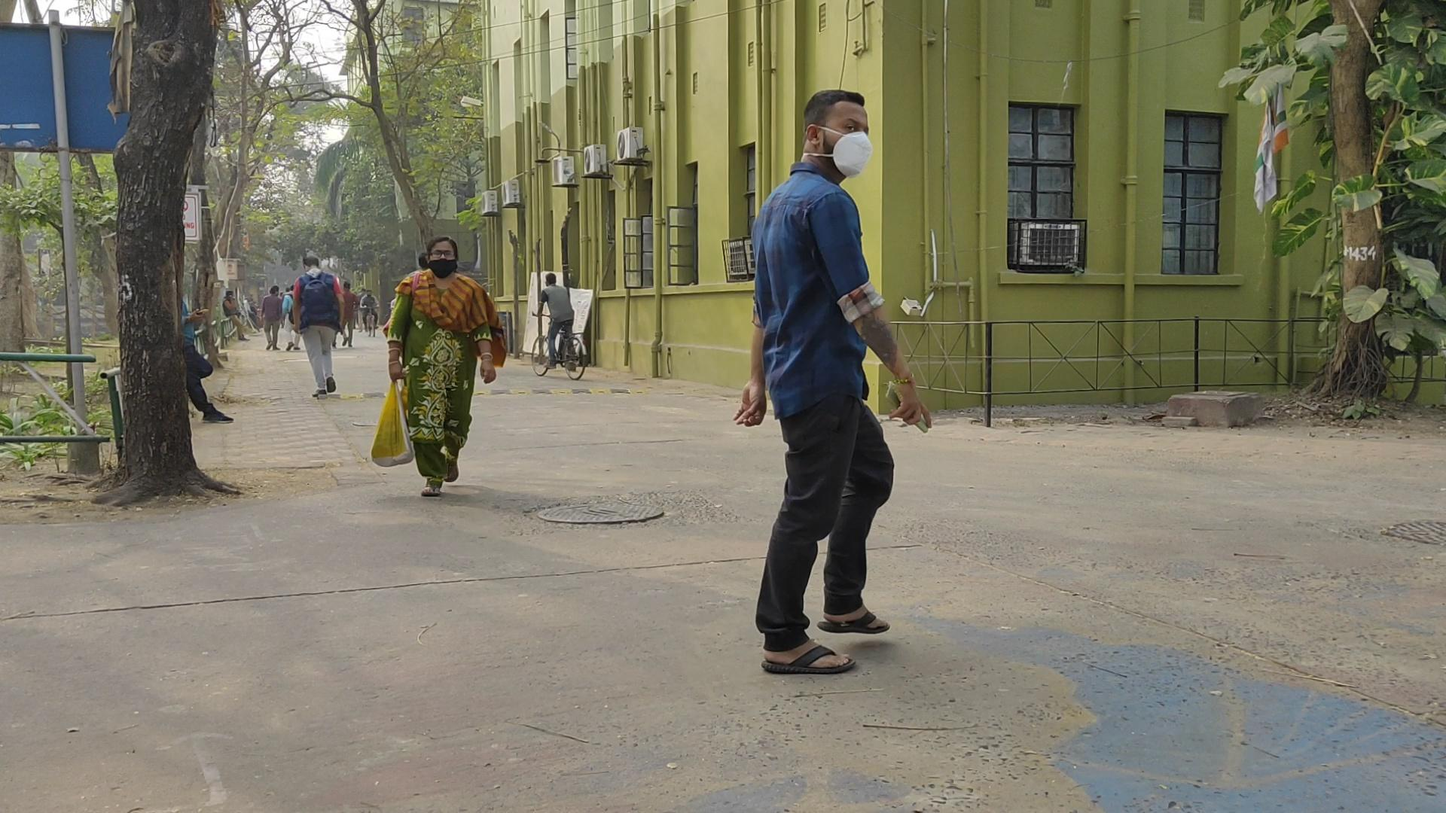bike: (532, 274, 588, 384), (359, 290, 380, 338)
